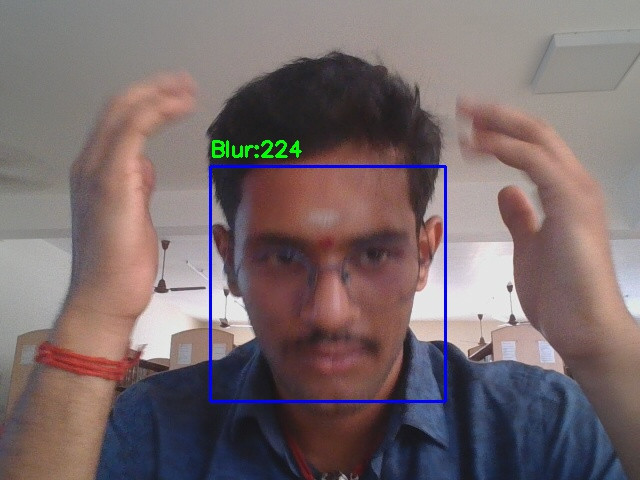real: (210, 166, 445, 401)
